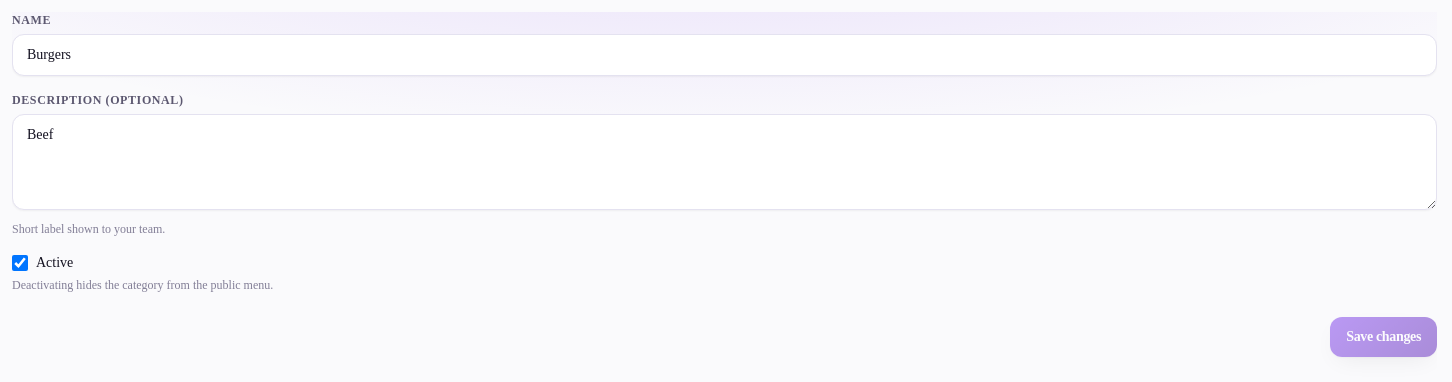
Test: CategoryForm (edit) › keeps submit disabled until a field changes
Expected: the button "Save changes" is disabled, [1330,317,1437,357]
Type " Deluxe" into the field labelled "Name". click: [724, 55]
box: [12,34,1437,76]
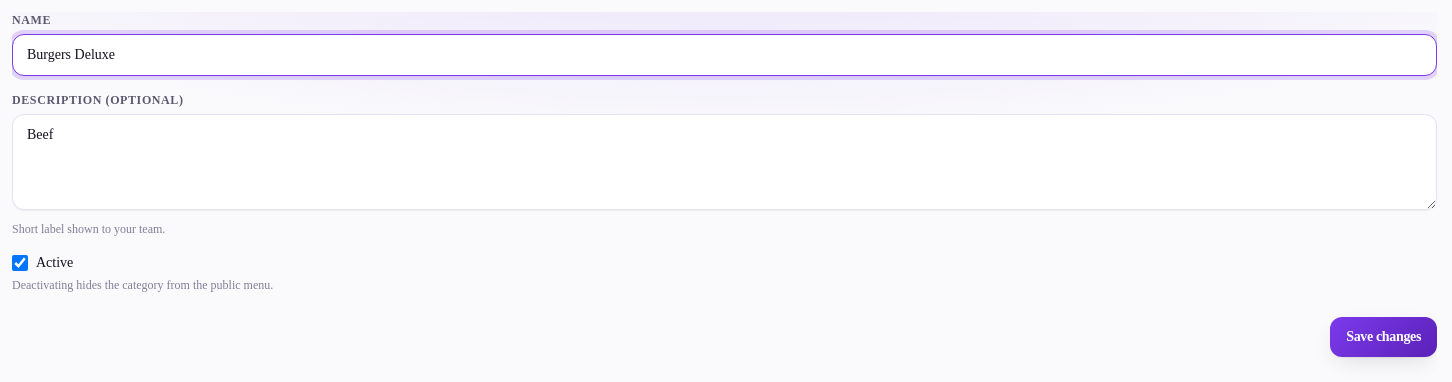
Expected: the button "Save changes" is enabled, [1330,317,1437,357]
